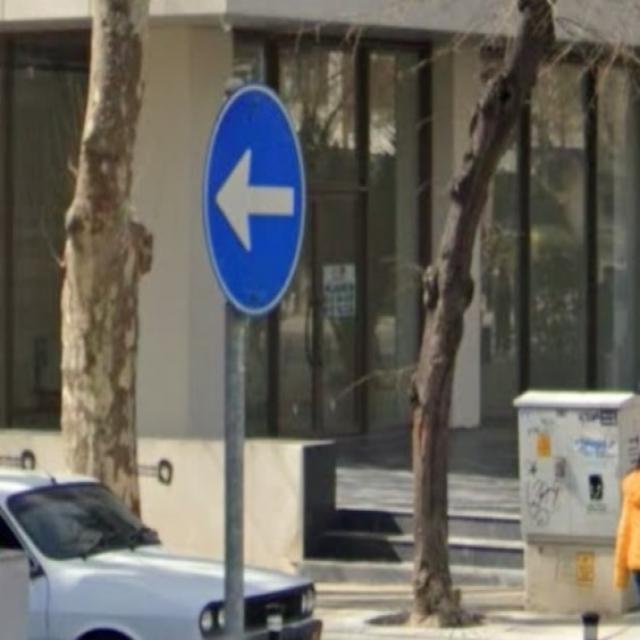Turn Left: (196, 91, 313, 314)
